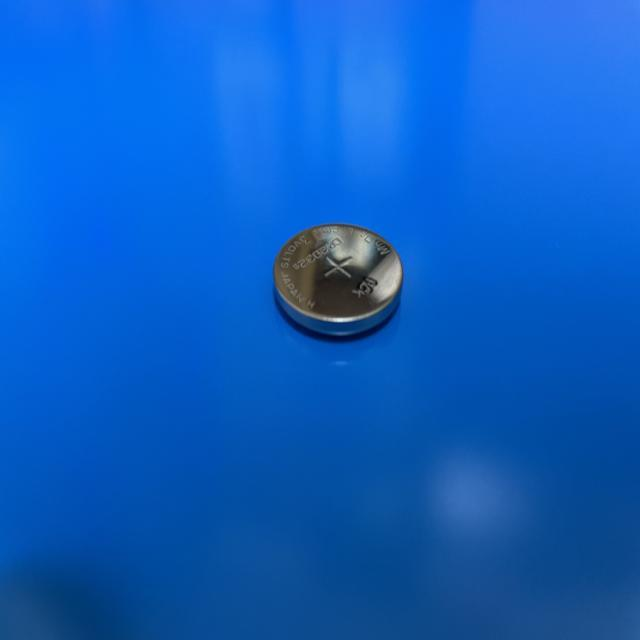COIN: (273, 223, 402, 342)
